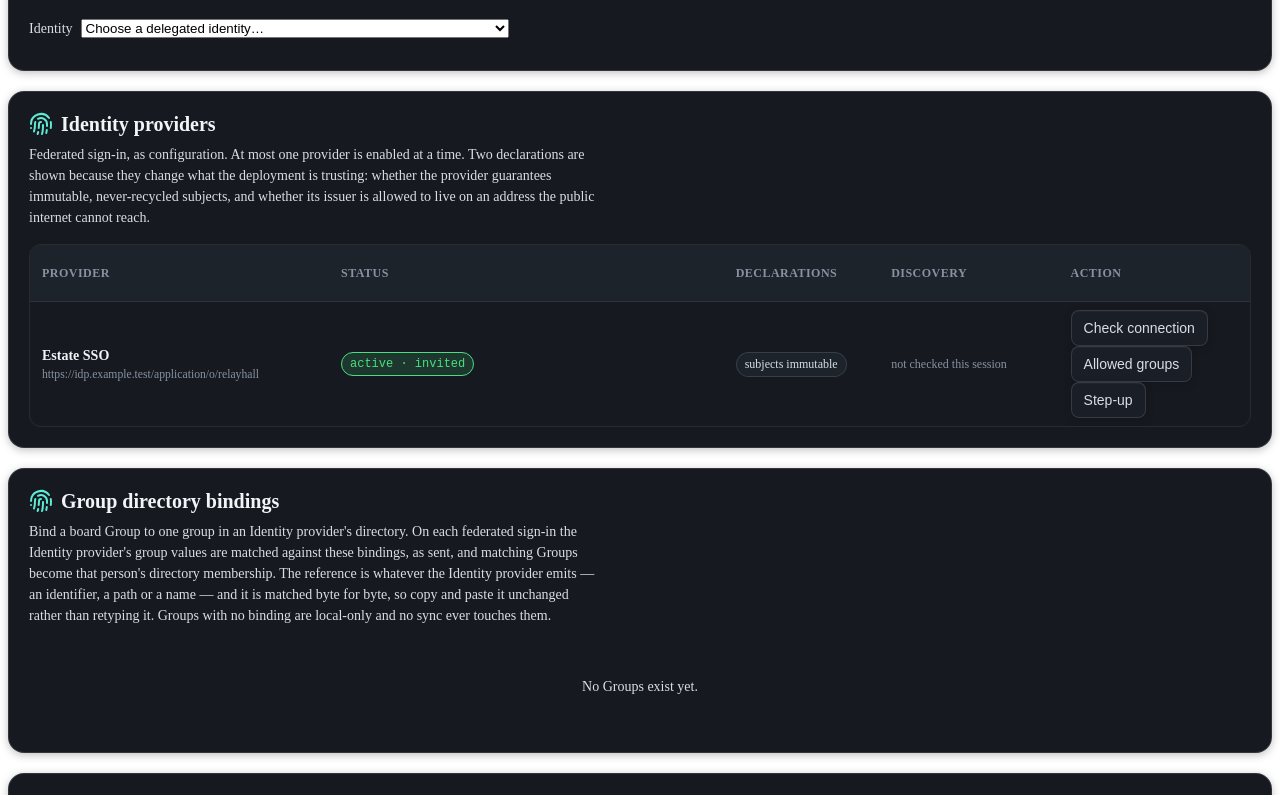
Test case: the server decides, and its refusal is shown by name › an age the server refuses is still sent, and PROVIDER_STEP_UP_MAX_AGE_INVALID is shown
(page scrolled)
Click the button with aria-label "Step-up for Estate SSO" at (1108, 400), box [1071,382,1146,418]
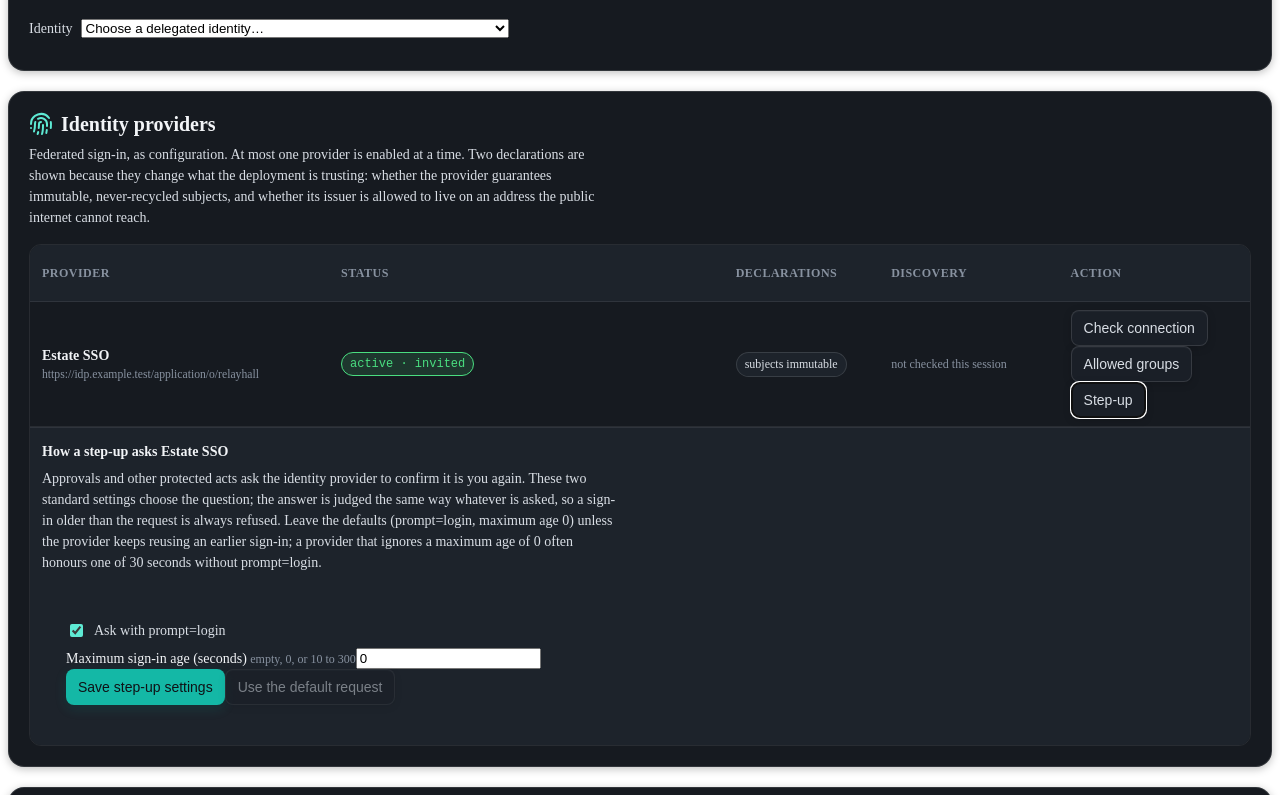
Replace the text in the field labelled "Maximum sign-in age (seconds) empty, 0, or 10 to 300" with "5" at (448, 658), box [356,648,541,669]
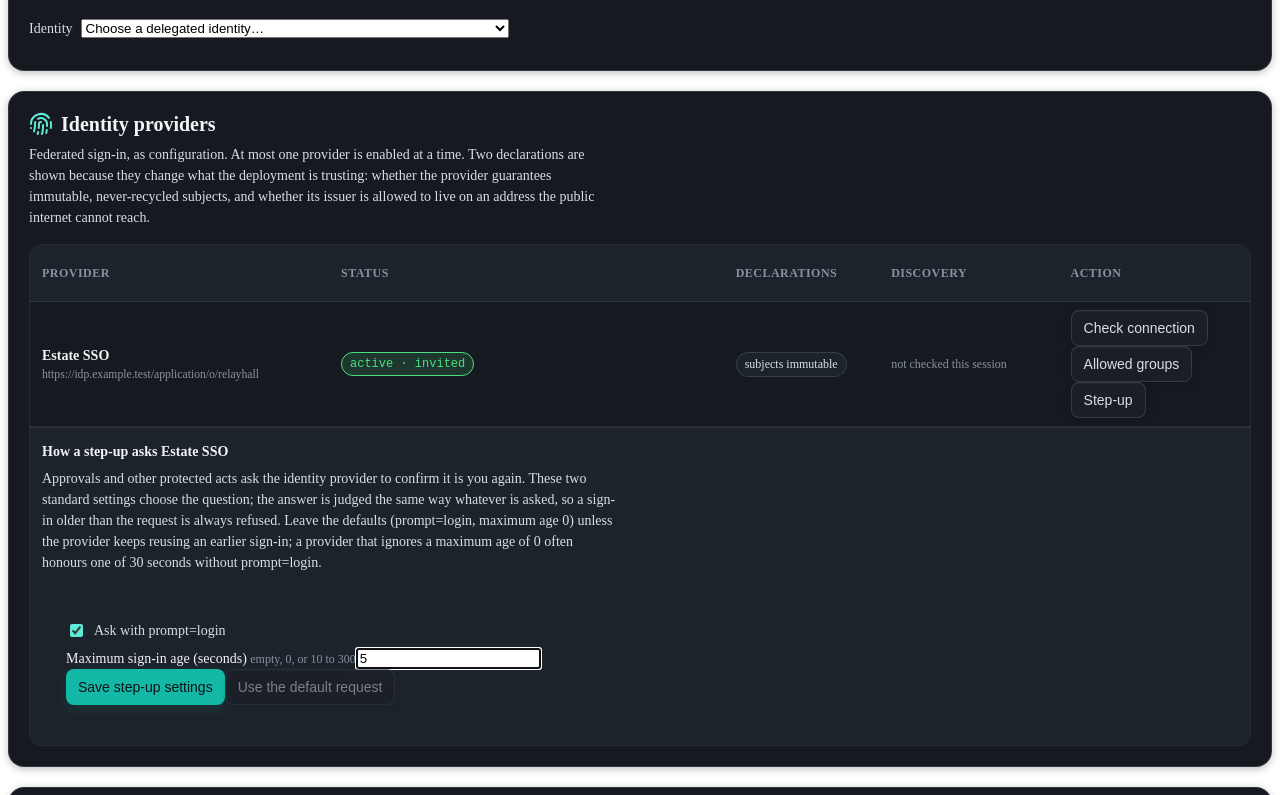
Click the button "Save step-up settings" at (145, 687), box [66,669,225,705]
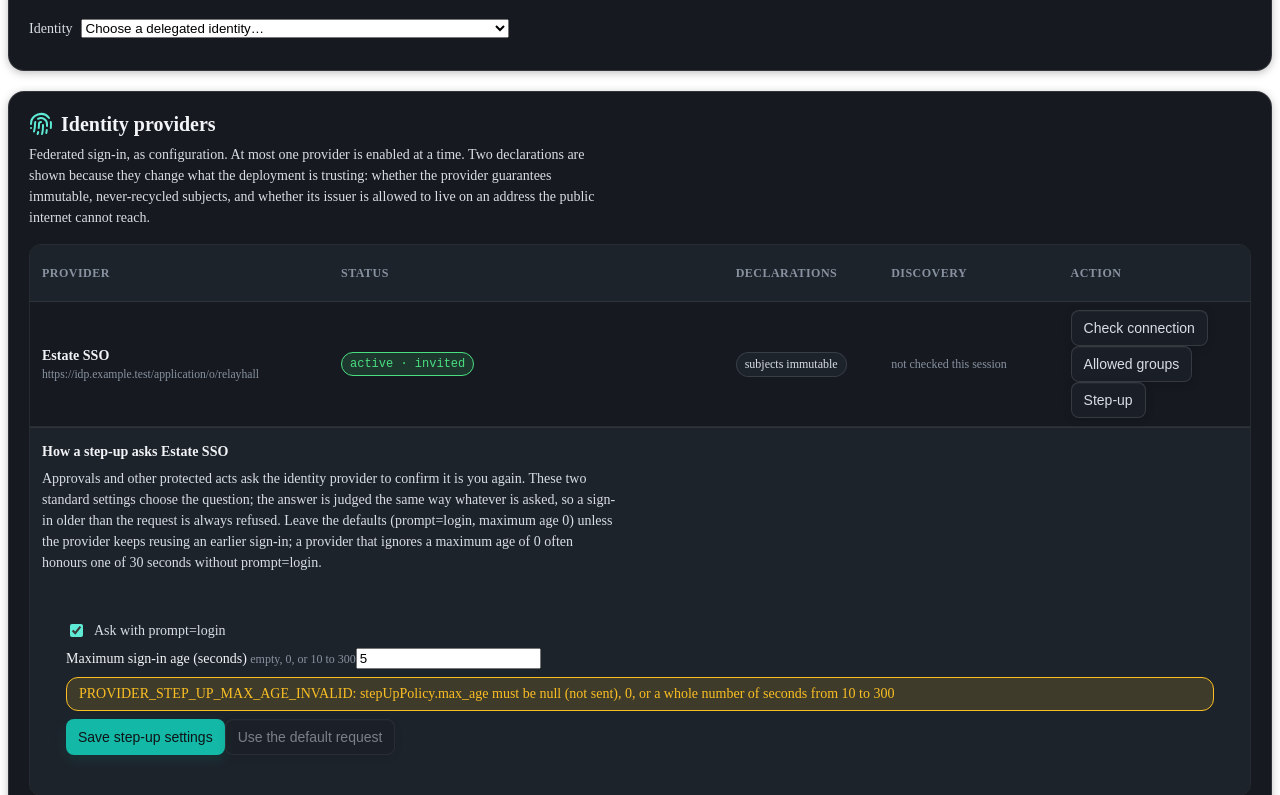
Expected: the message shows "PROVIDER_STEP_UP_MAX_AGE_INVALID", [79,686,894,701]
Expected: the message shows "from 10 to 300", [79,686,894,701]
